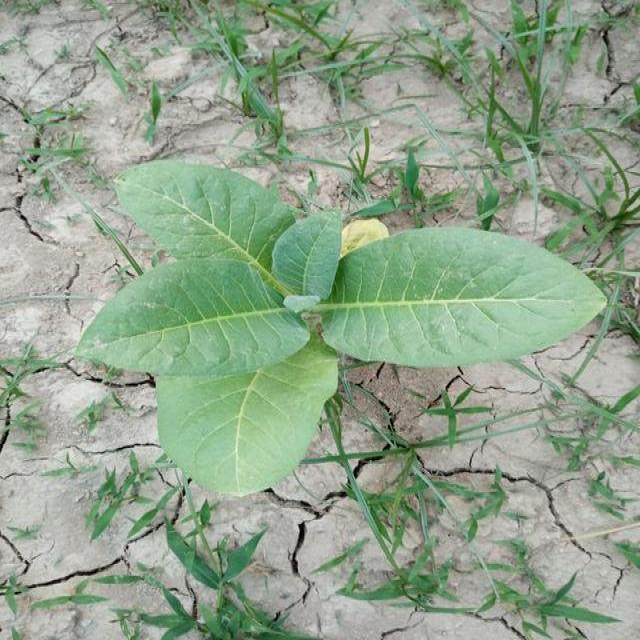crop: (83, 164, 607, 488)
